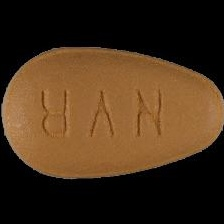63629-3371: (0, 0, 224, 224)
